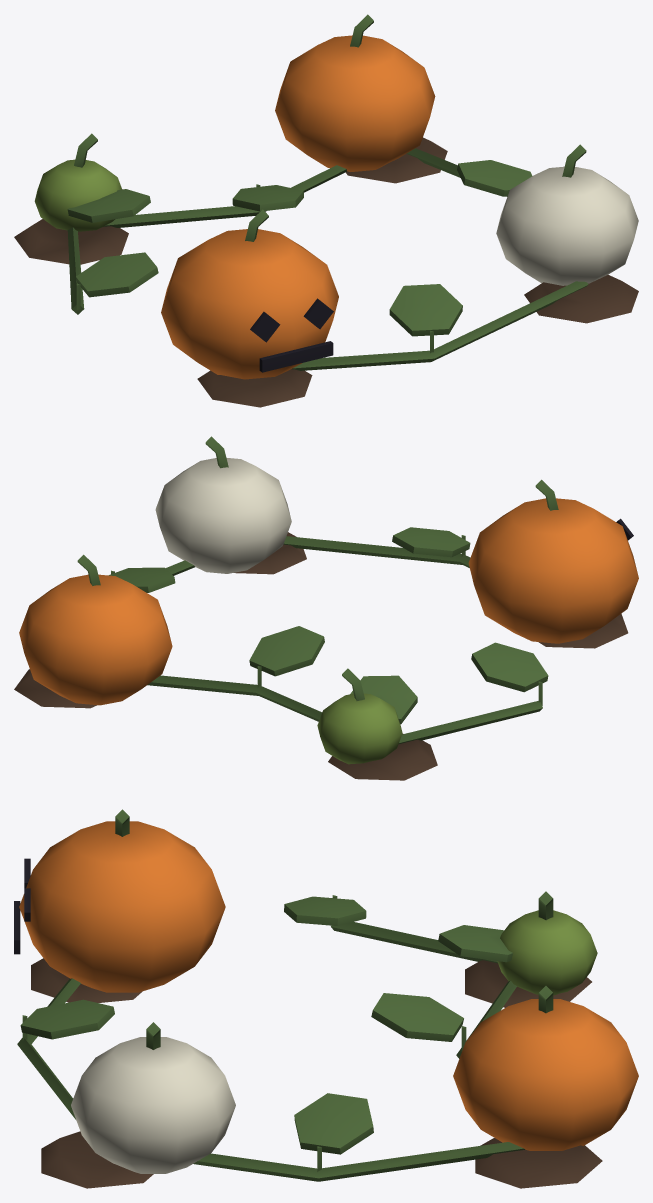
The model's file is crop_pumpkin_s3.glb.
3 renders of one model, top to bottom at view 1: azimuth 30°, elevation 25°; view 2: azimuth 150°, elevation 25°; view 3: azimuth 270°, elevation 25°, orthographic. The views are drawn at different scales.
Parts seen in each view (by area): view 1: crop_pumpkin_s3; view 2: crop_pumpkin_s3; view 3: crop_pumpkin_s3.
Boxes of the visible parts, x1=… form: crop_pumpkin_s3: x1=14, y1=14, x2=638, y2=407; crop_pumpkin_s3: x1=14, y1=436, x2=638, y2=780; crop_pumpkin_s3: x1=14, y1=809, x2=638, y2=1188.
Bounding box in the file's own units: 1.2 × 0.3836 × 1.21.
